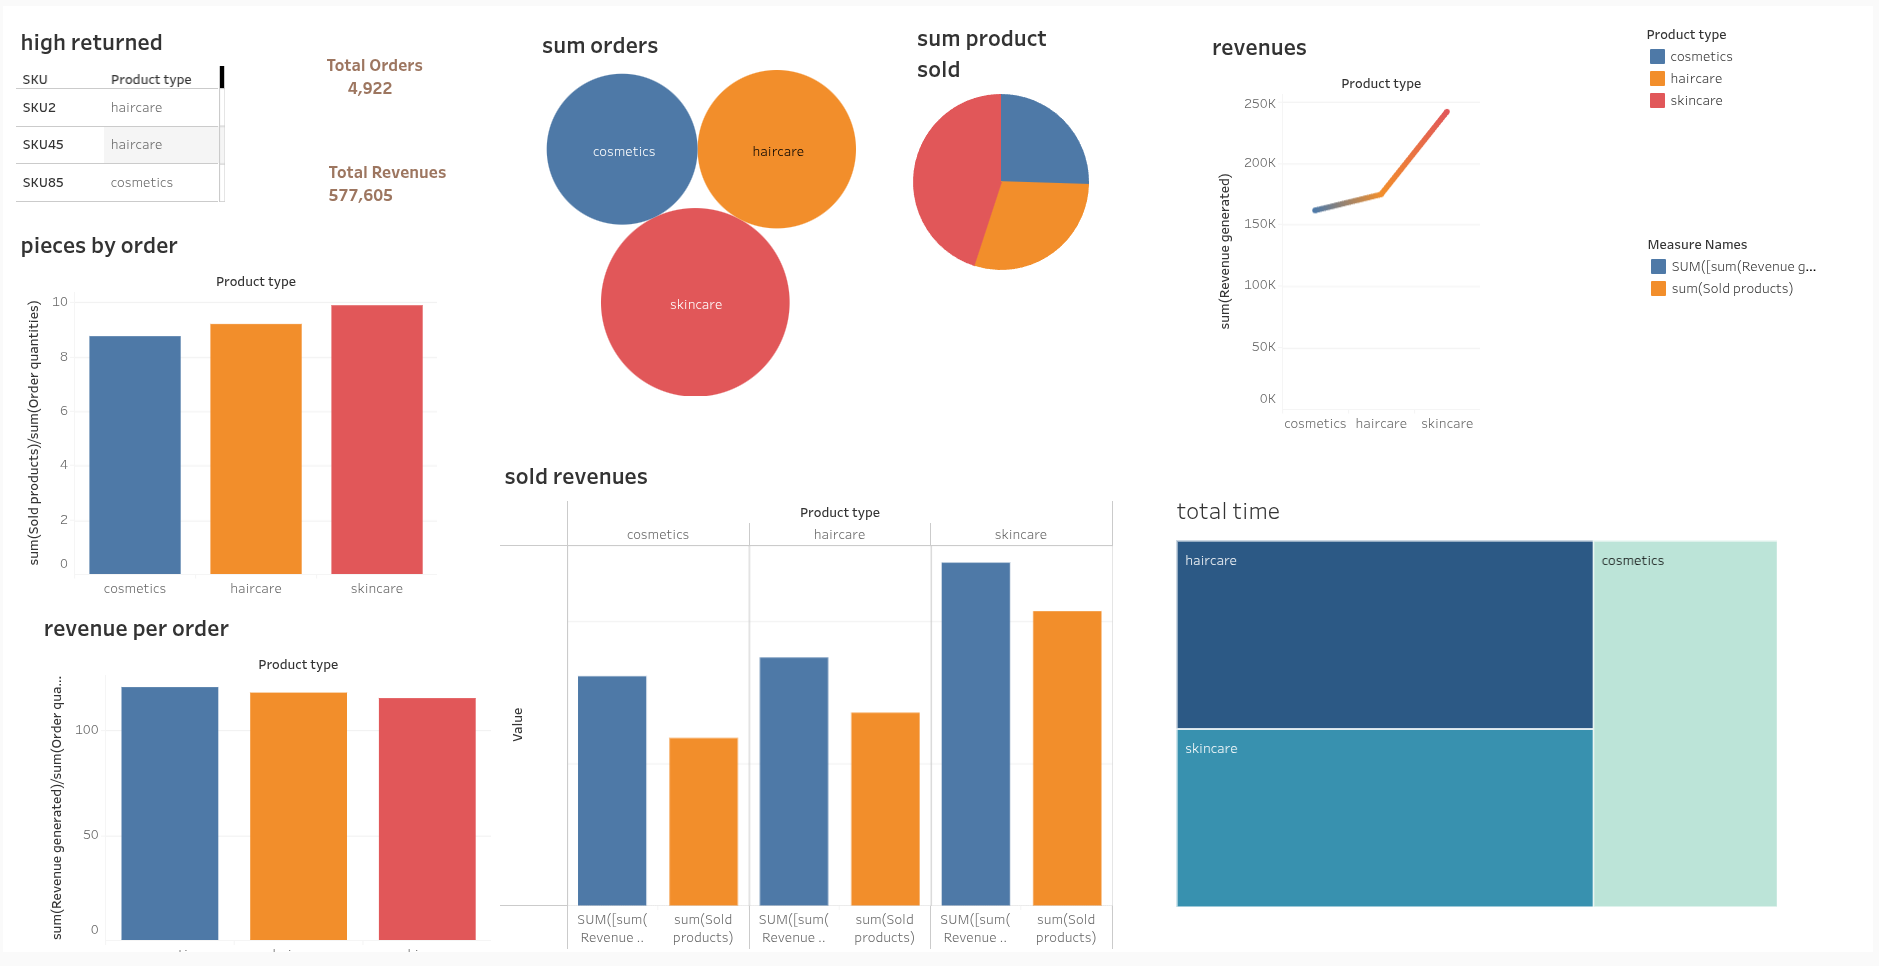

This screenshot's page, from the dashboard's own definition file:
{"tool":"tableau","page":{"name":"product","canvas":[1000,1000],"units":"permille","ordinal":3},"visuals":[{"type":"worksheet","title":"Sheet 25","mark":"Pie","box":[486.5,10.2,147.1,459.7]},{"type":"worksheet","title":"Sheet 18","mark":"Automatic","rows":["SKU","Product type"],"box":[7.1,14.1,145.3,227.9]},{"type":"text","box":[172.9,15.4,87.7,117.8]},{"type":"worksheet","title":"Sheet 24","mark":"Circle","box":[285.9,17.9,174.7,421.2]},{"type":"worksheet","title":"Sheet 26","mark":"Line","rows":["sum(Revenue_generated)"],"cols":["Product_type"],"box":[644.1,19.2,213.5,431.5]},{"type":"legend","title":"Sheet 20","param":"[federated.1ednegk0hl1owo12d3ki01voihuz].[none:Product_type:nk]","box":[878.8,19.2,82.4,135.7]},{"type":"text","box":[174.1,139.6,89.4,94.8]},{"type":"worksheet","title":"Sheet 20","mark":"Automatic","rows":["sum(Sold_products)/sum(Order_quantities)"],"cols":["Product_type"],"box":[7.1,229.2,225.3,396.9]},{"type":"legend","title":"Sheet 23","param":"[federated.0ava37j1vlto9y1h0t0x31w3va3u].[:Measure Names]","box":[879.4,242,91.2,88.4]},{"type":"worksheet","title":"Sheet 23","mark":"Automatic","cols":["Product_type"],"box":[265.9,473.8,327.7,523.7]},{"type":"worksheet","title":"Sheet 27","mark":"Automatic","box":[625.3,510.9,325.3,489.1]}]}

Visuals, with their boxes on the dashboard's canvas, which has no fixed pixel size, in thousandths of its width and height (x1, y1, x2, y2). These are canvas units, not pixel positions in the 1879x966 screenshot, which may show the page scaled, cropped or inside an application window:
"Sheet 25" worksheet (Pie marks): crop(486, 10, 634, 470)
"Sheet 18" worksheet: crop(7, 14, 152, 242)
text: crop(173, 15, 261, 133)
"Sheet 24" worksheet (Circle marks): crop(286, 18, 461, 439)
"Sheet 26" worksheet (Line marks): crop(644, 19, 858, 451)
"Sheet 20" legend: crop(879, 19, 961, 155)
text: crop(174, 140, 264, 234)
"Sheet 20" worksheet: crop(7, 229, 232, 626)
"Sheet 23" legend: crop(879, 242, 971, 330)
"Sheet 23" worksheet: crop(266, 474, 594, 998)
"Sheet 27" worksheet: crop(625, 511, 951, 1000)
